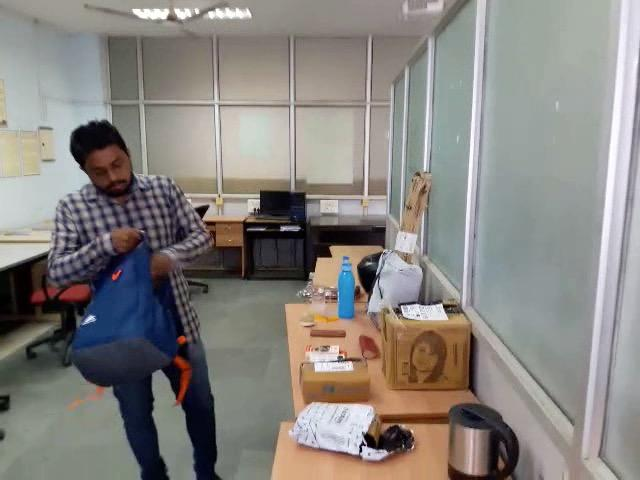shoplifting: (32, 206, 259, 404)
